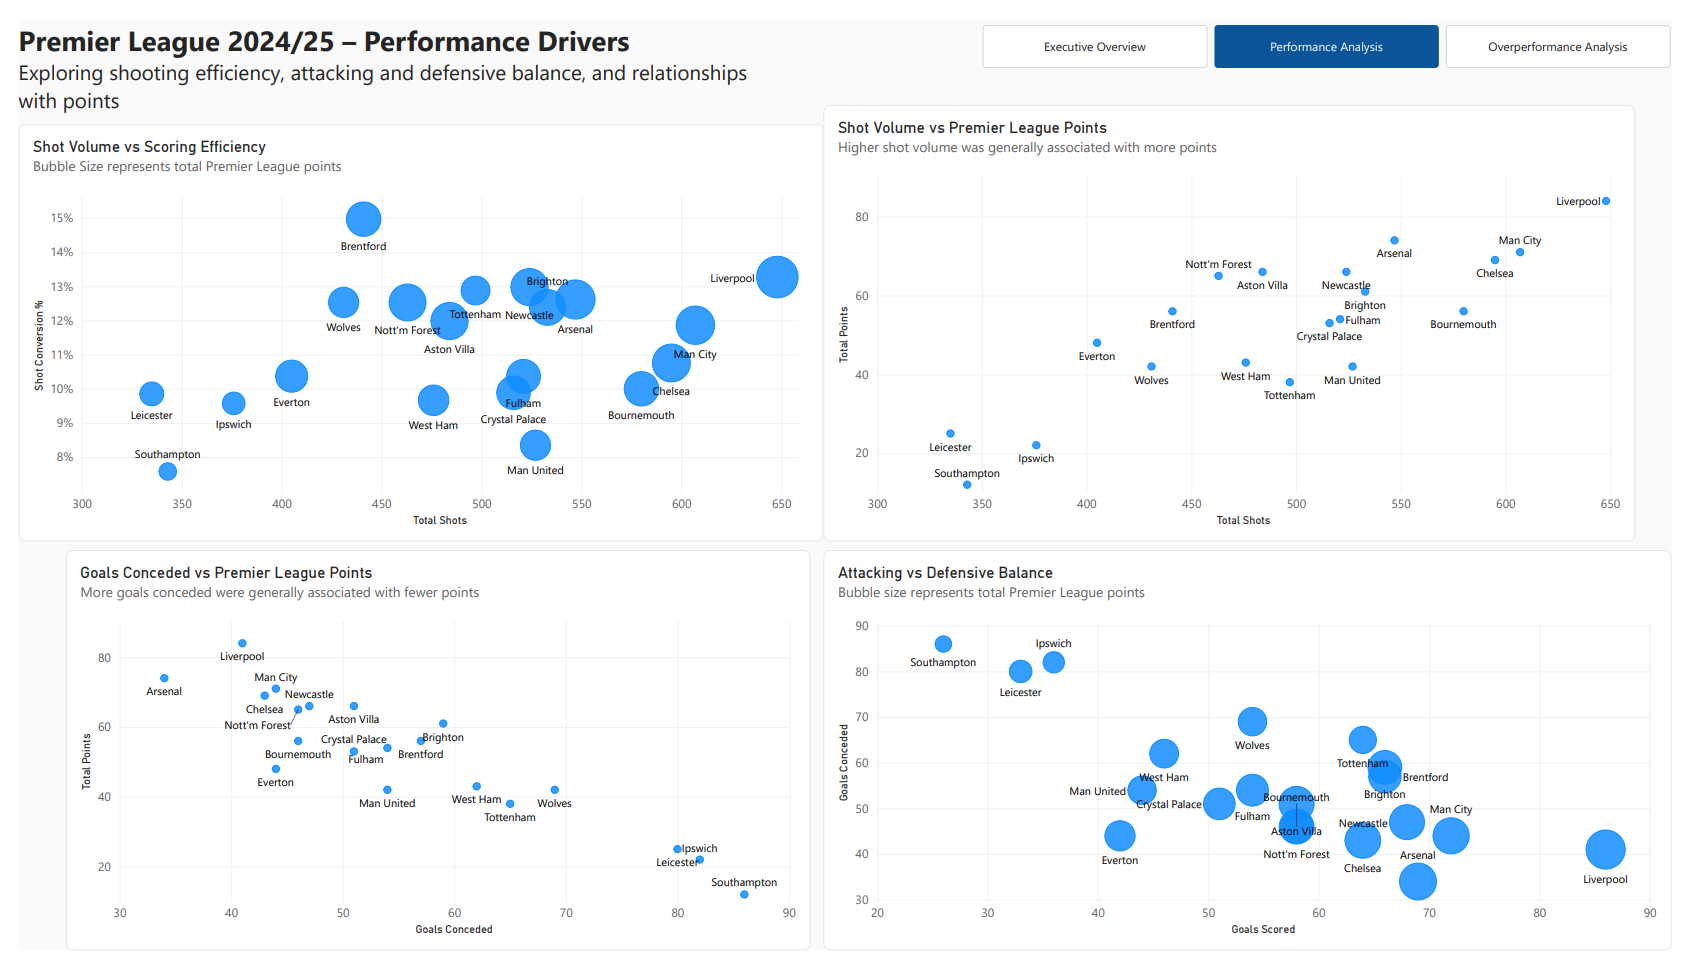

What the dashboard file says about the page in this screenshot:
{"tool":"powerbi","page":{"name":"Performance Analysis","canvas":[1920,1080],"ordinal":1},"visuals":[{"type":"scatterChart","title":"Shot Volume vs Scoring Efficiency","fields":{"Category":["Team_Match_Data.Team"],"Size":["Team_Match_Data.Total Points"],"X":["Team_Match_Data.Total Shots"],"Y":["Team_Match_Data.Shot Conversion %"]},"box":[0,120,935,485],"z":0},{"type":"scatterChart","title":"Shot Volume vs Premier League Points","fields":{"Category":["Team_Match_Data.Team"],"X":["Team_Match_Data.Total Shots"],"Y":["Team_Match_Data.Total Points"]},"box":[935,97.5,942.5,507.5],"z":1000},{"type":"scatterChart","title":"Goals Conceded vs Premier League Points","fields":{"Category":["Team_Match_Data.Team"],"X":["Team_Match_Data.Goals Conceded"],"Y":["Team_Match_Data.Total Points"]},"box":[55,615,865,465],"z":2000},{"type":"scatterChart","title":"Attacking vs Defensive Balance","fields":{"Category":["Team_Match_Data.Team"],"Size":["Team_Match_Data.Total Points"],"X":["Team_Match_Data.Goals Scored"],"Y":["Team_Match_Data.Goals Conceded"]},"box":[935,615,985,465],"z":3000},{"type":"pageNavigator","box":[1120,5,800,50],"z":4000},{"type":"textbox","box":[0,0,850,107.5],"z":5000}]}

Visuals, with their boxes in screenshot pixels (x1, y1, x2, y2), scaled from the page's 1920x1080 canvas onto the 1691x970 screenshot:
"Shot Volume vs Scoring Efficiency" scatterChart: (0,108,823,543)
"Shot Volume vs Premier League Points" scatterChart: (823,88,1654,543)
"Goals Conceded vs Premier League Points" scatterChart: (48,552,810,969)
"Attacking vs Defensive Balance" scatterChart: (823,552,1690,969)
pageNavigator: (986,4,1690,49)
textbox: (0,0,749,97)
